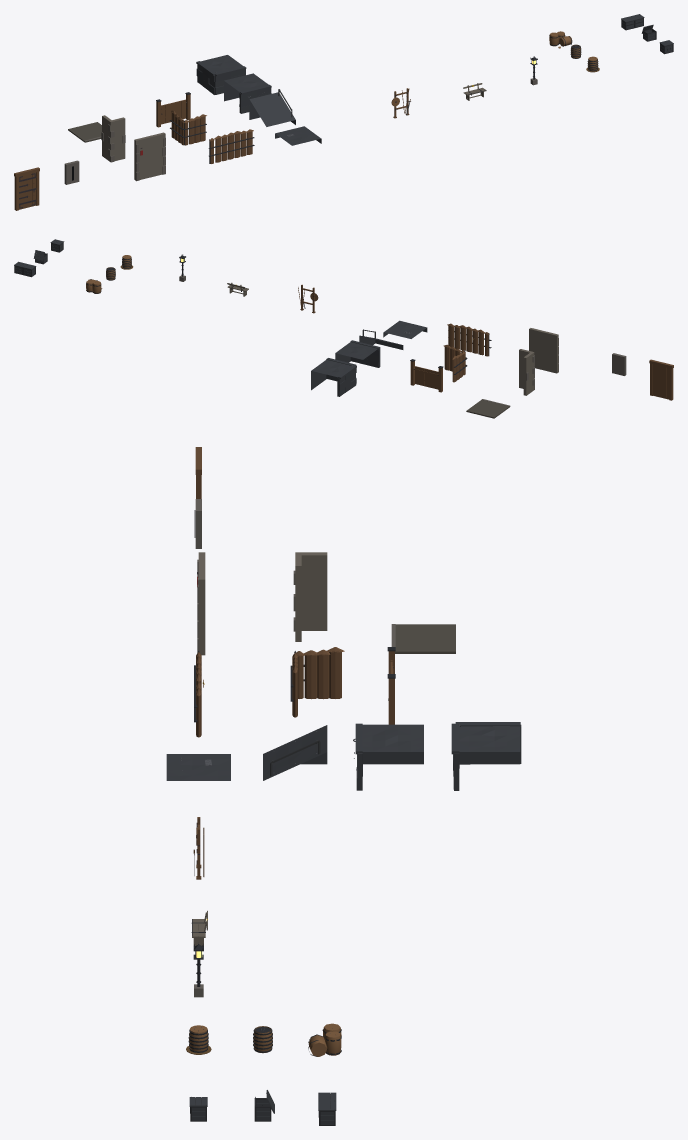
Rendered from Keep_FullBuild.glb.
3 views of the same model, one above another, from view 1: azimuth 30°, elevation 25°; view 2: azimuth 150°, elevation 25°; view 3: azimuth 270°, elevation 25° (orthographic). The views are drawn at different scales.
Visible parts, largest first — view 1: SM_Wall_KeepAshlar_03_Straight_Panel, SM_Terrain_Keep_03_Slope_Ramp, SM_Terrain_Keep_03_Cliff_Wall, SM_Wall_KeepAshlar_03_Corner_PanelX, SM_Terrain_Keep_03_Flat_Plate, SM_Wall_KeepAshlar_03_Floor_Slab, SM_Terrain_Keep_03_Corner_Wall, SM_Window_KeepSlit_03_StoneBlock; view 2: SM_Wall_KeepAshlar_03_Straight_Panel, SM_Terrain_Keep_03_Corner_Wall, SM_Terrain_Keep_03_Cliff_Wall, SM_Wall_KeepAshlar_03_Floor_Slab, SM_Terrain_Keep_03_Flat_Plate, SM_Wall_KeepAshlar_03_Corner_PanelY, SM_Window_KeepSlit_03_StoneBlock, SM_Terrain_Keep_03_Slope_Ramp; view 3: SM_Terrain_Keep_03_Cliff_Wall, SM_Wall_KeepAshlar_03_Corner_PanelY, SM_Terrain_Keep_03_Slope_Ramp, SM_Wall_KeepAshlar_03_Floor_Slab, SM_Terrain_Keep_03_Flat_Plate, SM_Terrain_Keep_03_Corner_Wall.
Part boxes in pixels (left/top/right/bottom): SM_Wall_KeepAshlar_03_Straight_Panel: left=134, top=132, right=165, bottom=180; SM_Terrain_Keep_03_Slope_Ramp: left=249, top=92, right=295, bottom=126; SM_Terrain_Keep_03_Cliff_Wall: left=224, top=73, right=268, bottom=101; SM_Wall_KeepAshlar_03_Corner_PanelX: left=109, top=117, right=125, bottom=161; SM_Terrain_Keep_03_Flat_Plate: left=275, top=126, right=321, bottom=145; SM_Wall_KeepAshlar_03_Floor_Slab: left=68, top=122, right=101, bottom=142; SM_Terrain_Keep_03_Corner_Wall: left=200, top=55, right=243, bottom=72; SM_Window_KeepSlit_03_StoneBlock: left=64, top=160, right=79, bottom=184; SM_Wall_KeepAshlar_03_Straight_Panel: left=529, top=328, right=558, bottom=373; SM_Terrain_Keep_03_Corner_Wall: left=311, top=359, right=351, bottom=390; SM_Terrain_Keep_03_Cliff_Wall: left=335, top=342, right=377, bottom=362; SM_Wall_KeepAshlar_03_Floor_Slab: left=466, top=399, right=510, bottom=418; SM_Terrain_Keep_03_Flat_Plate: left=383, top=320, right=427, bottom=338; SM_Wall_KeepAshlar_03_Corner_PanelY: left=523, top=352, right=532, bottom=395; SM_Window_KeepSlit_03_StoneBlock: left=612, top=353, right=626, bottom=375; SM_Terrain_Keep_03_Slope_Ramp: left=359, top=335, right=403, bottom=349; SM_Terrain_Keep_03_Cliff_Wall: left=362, top=724, right=423, bottom=764; SM_Wall_KeepAshlar_03_Corner_PanelY: left=301, top=552, right=327, bottom=630; SM_Terrain_Keep_03_Slope_Ramp: left=263, top=725, right=327, bottom=780; SM_Wall_KeepAshlar_03_Floor_Slab: left=395, top=624, right=455, bottom=653; SM_Terrain_Keep_03_Flat_Plate: left=166, top=754, right=230, bottom=780; SM_Terrain_Keep_03_Corner_Wall: left=459, top=726, right=520, bottom=764.
Bounding box in the file's own units: 44.87 × 2.66 × 11.03.
